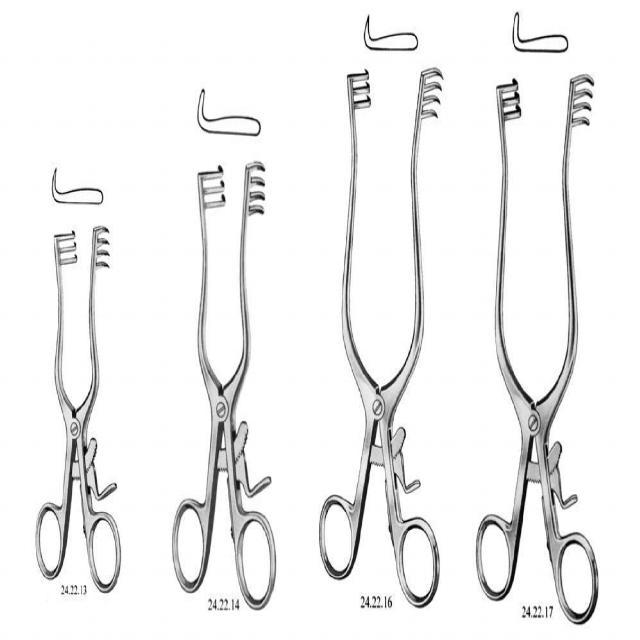Weitlaner: (473, 71, 600, 629), (317, 64, 444, 612), (171, 157, 279, 614), (33, 222, 123, 598)
